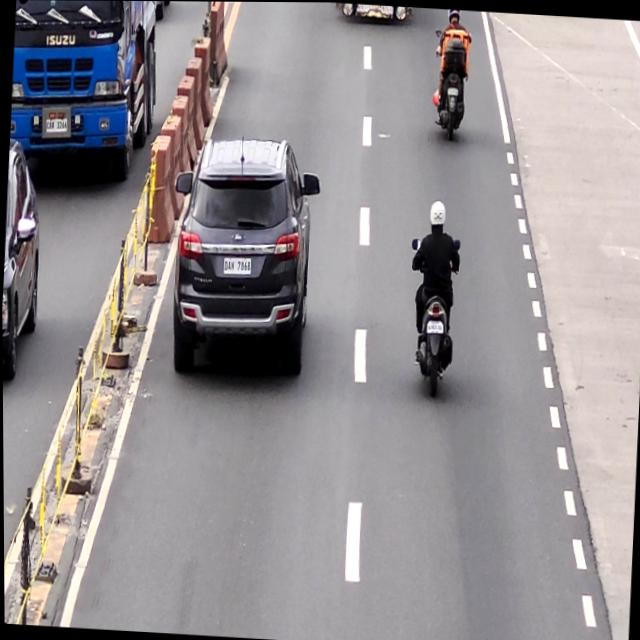Car: (166, 135, 324, 380)
License-Plate: (223, 256, 254, 275), (426, 319, 444, 334), (447, 86, 458, 96)
Motorcycle: (405, 231, 461, 399), (431, 25, 471, 142)
